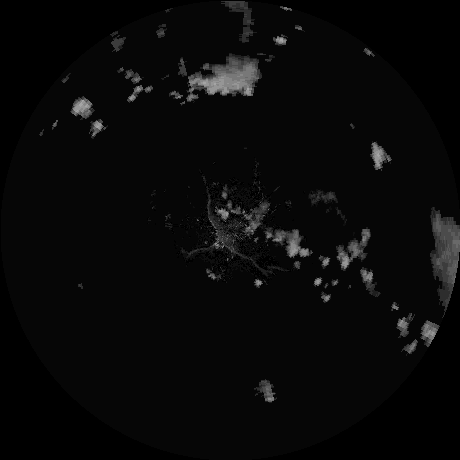frontgust: (206, 196, 258, 269)
